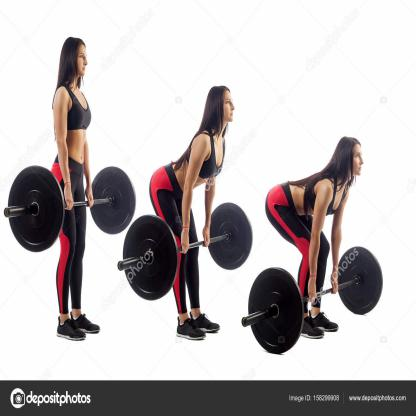Barbell: (4, 159, 67, 256), (114, 212, 180, 304), (241, 266, 306, 356)
